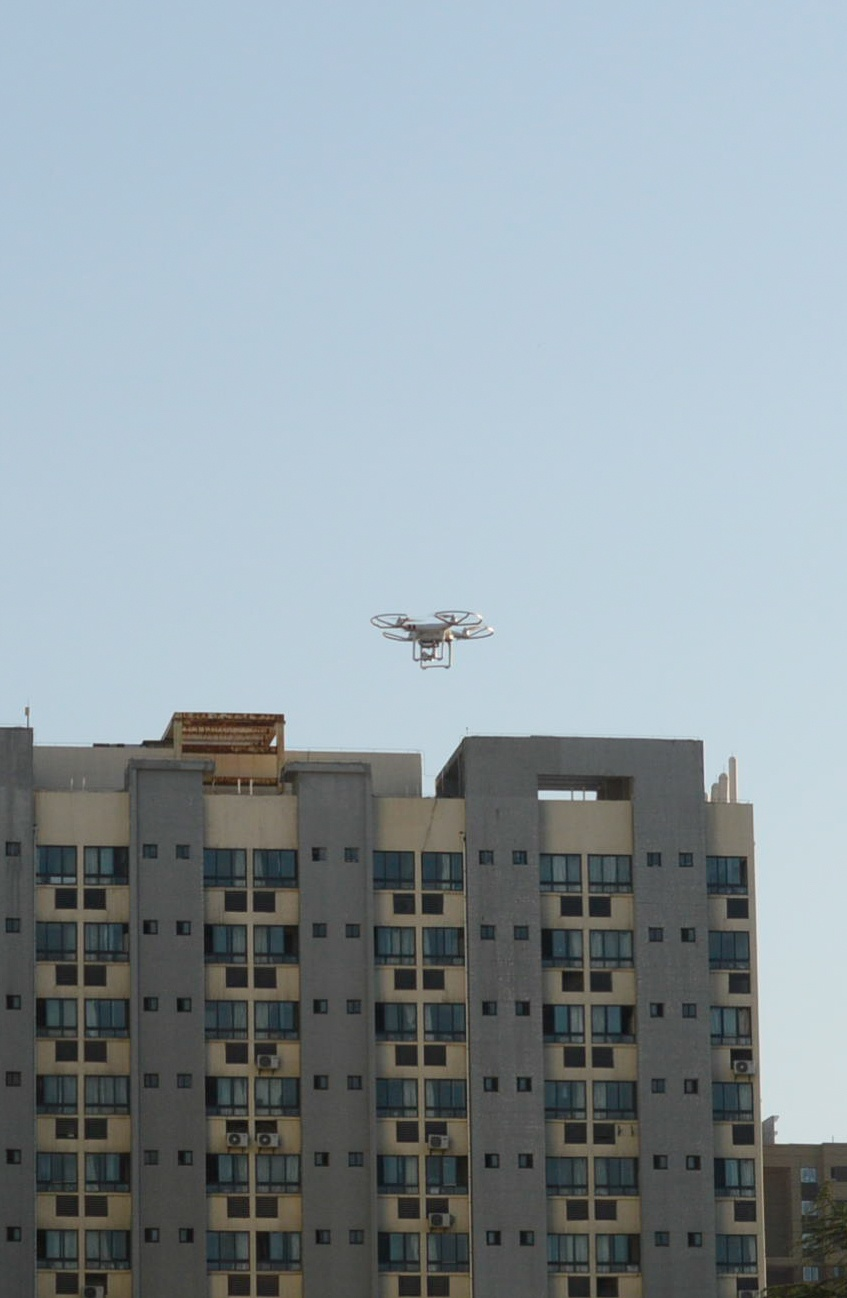DJI: (371, 603, 494, 668)
